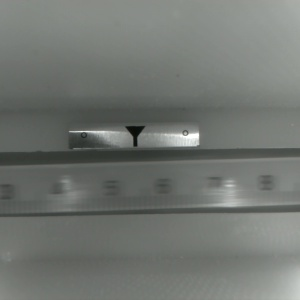finger: (124, 127, 145, 145)
